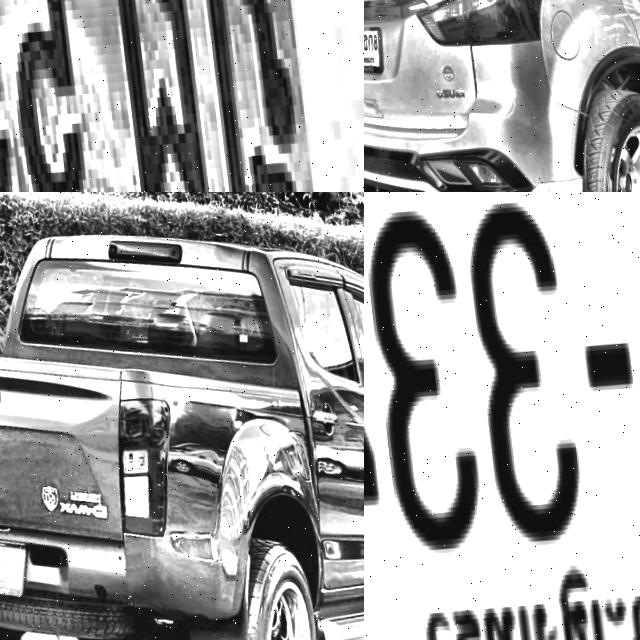license-plate: (364, 192, 640, 640), (0, 0, 364, 192), (0, 518, 32, 605), (364, 15, 390, 82)
